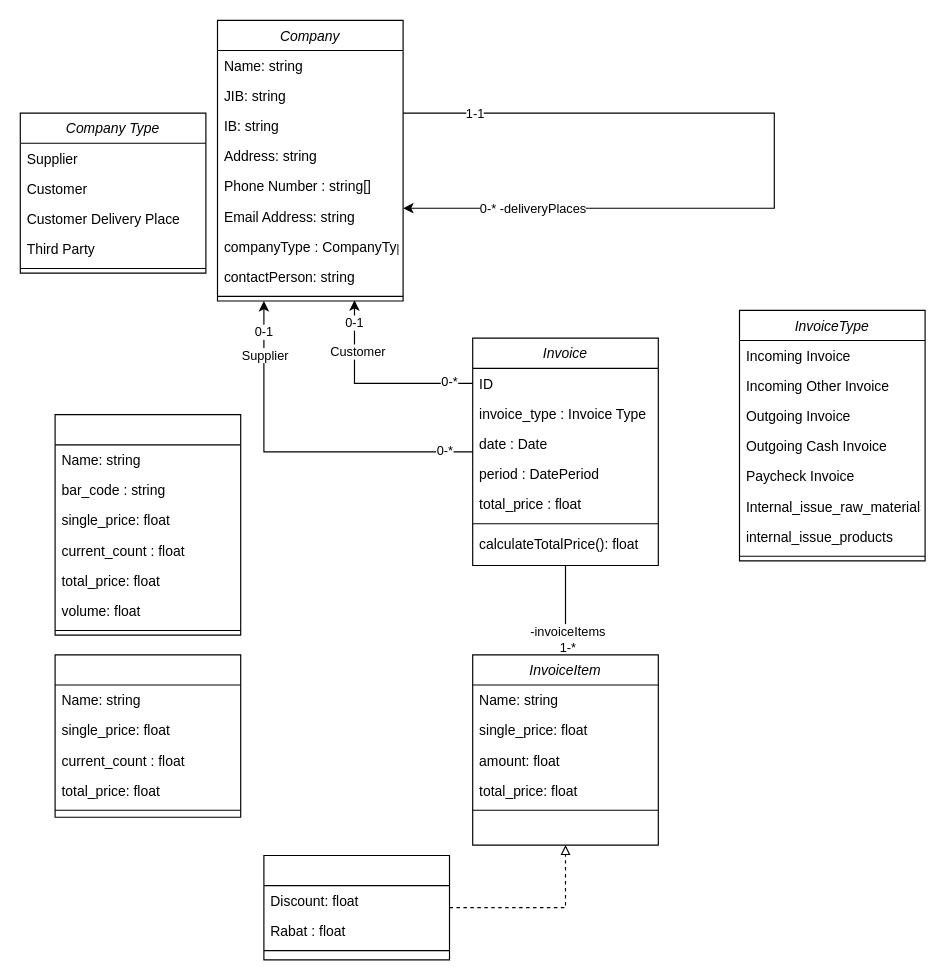
This 947x980 diagram has some shape labels left out. Here are the shapes that lost their labels. From the top down, the box of each, then its label:
(54, 414, 241, 635): Product
(54, 654, 241, 817): Raw
(263, 854, 449, 960): InvoiceItem-Product
